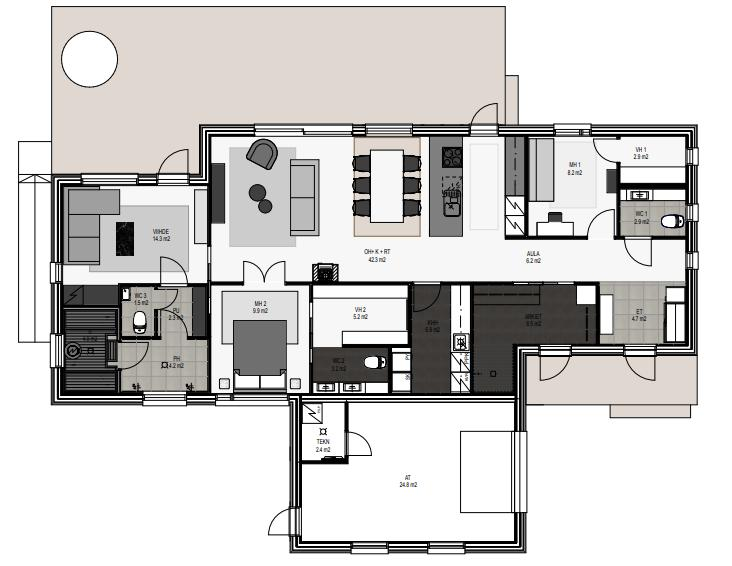bathroom: (311, 348, 390, 381), (620, 200, 685, 236), (120, 284, 156, 335)
door: (619, 342, 663, 383), (153, 146, 191, 188), (534, 344, 570, 383), (267, 506, 305, 539), (157, 254, 191, 289), (583, 208, 618, 242), (464, 102, 501, 134), (404, 281, 440, 313), (622, 235, 656, 268), (153, 308, 188, 340), (116, 341, 152, 372), (343, 430, 375, 460), (590, 137, 623, 165), (264, 260, 287, 287), (241, 261, 264, 287)
perimeter: (50, 125, 696, 551)
window: (508, 428, 531, 520), (251, 123, 357, 141), (211, 392, 294, 408), (138, 390, 191, 413), (77, 172, 145, 188), (361, 120, 420, 135), (49, 331, 67, 372), (549, 120, 597, 135), (346, 538, 397, 551), (425, 540, 471, 554), (47, 258, 62, 287), (682, 202, 702, 223), (684, 147, 701, 168), (685, 253, 700, 272)
